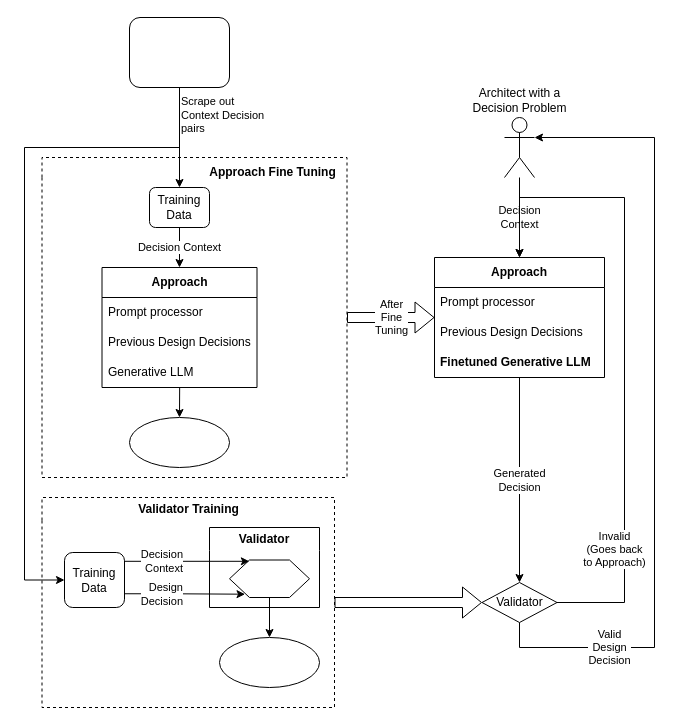
Image size: 680x725. Some labels were removed from this diagram. The shapes that lost their labels are listed below. From the top down, each one's box as (x1, y1, x2, y2) in pixels, then its label:
(128, 16, 230, 88): Dataset of Architecture Decision Records
(128, 416, 230, 468): Generated Design Decision
(228, 559, 310, 598): LLM Classifier
(218, 636, 320, 688): Valid Decision or not
